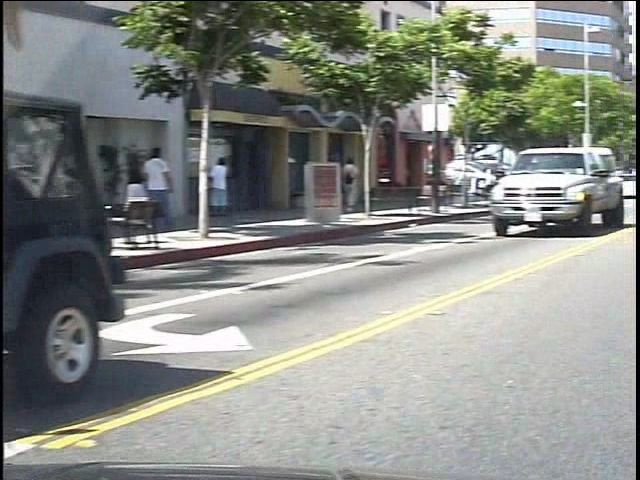person: (137, 147, 167, 236), (156, 143, 190, 199), (226, 145, 249, 227), (357, 155, 378, 216)
